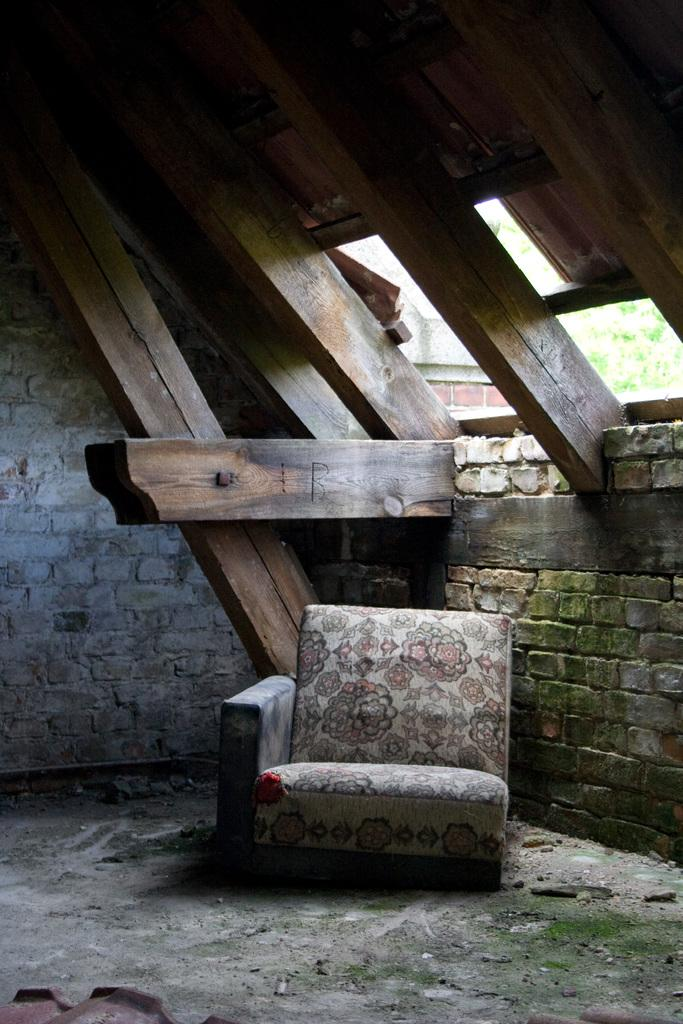Chair: (197, 594, 537, 907)
